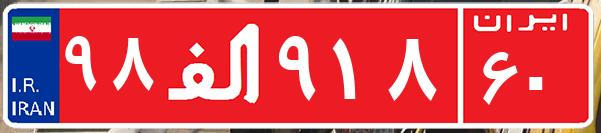0: (525, 38, 570, 115)
1: (330, 28, 385, 110)
6: (475, 38, 525, 113)
8: (385, 28, 445, 110), (110, 28, 158, 105)
9: (273, 28, 330, 110), (57, 26, 110, 107)
الف: (158, 15, 273, 115)
